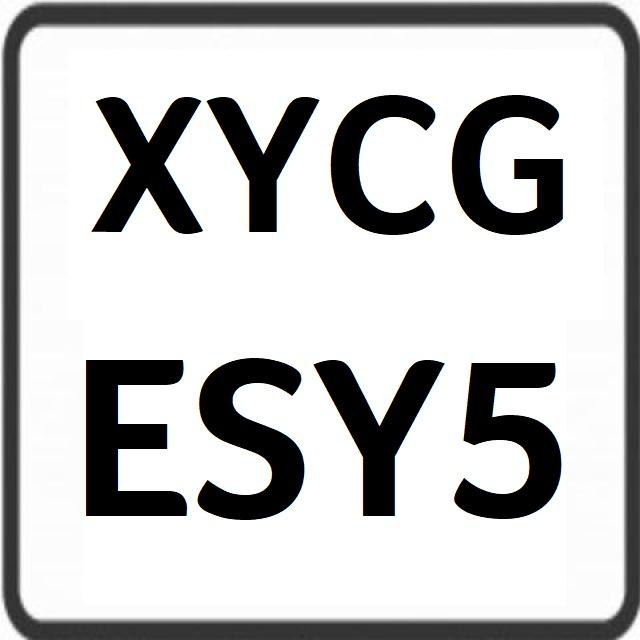5: (457, 346, 571, 540)
C: (330, 85, 440, 242)
E: (75, 330, 191, 536)
G: (447, 85, 574, 249)
S: (190, 335, 305, 524)
X: (79, 84, 206, 248)
Y: (321, 344, 446, 540), (213, 76, 323, 249)
